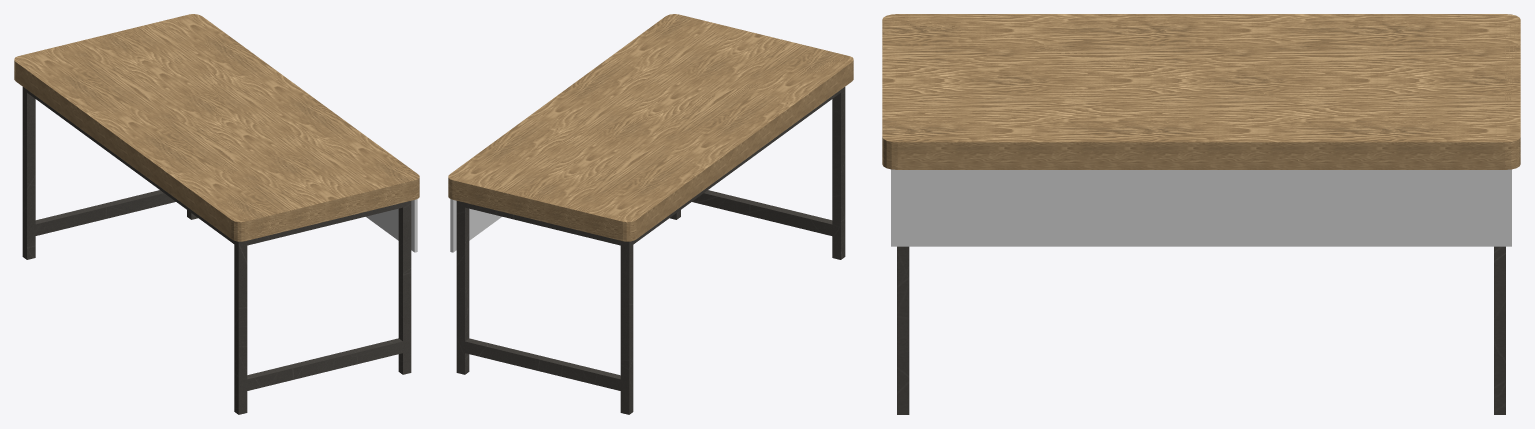
The model's file is meja2.fbx.
3 views of the same model, side by side, from view 1: azimuth 30°, elevation 25°; view 2: azimuth 150°, elevation 25°; view 3: azimuth 270°, elevation 25° (orthographic). The views are drawn at different scales.
Parts seen in each view (by area): view 1: Alas.001; view 2: Alas.001; view 3: Alas.001.
Part boxes in pixels (x1,y1,x2,y2): Alas.001: [14, 14, 419, 414]; Alas.001: [448, 14, 853, 414]; Alas.001: [882, 14, 1520, 414].
Bounding box in the file's own units: 200 × 201 × 420.
